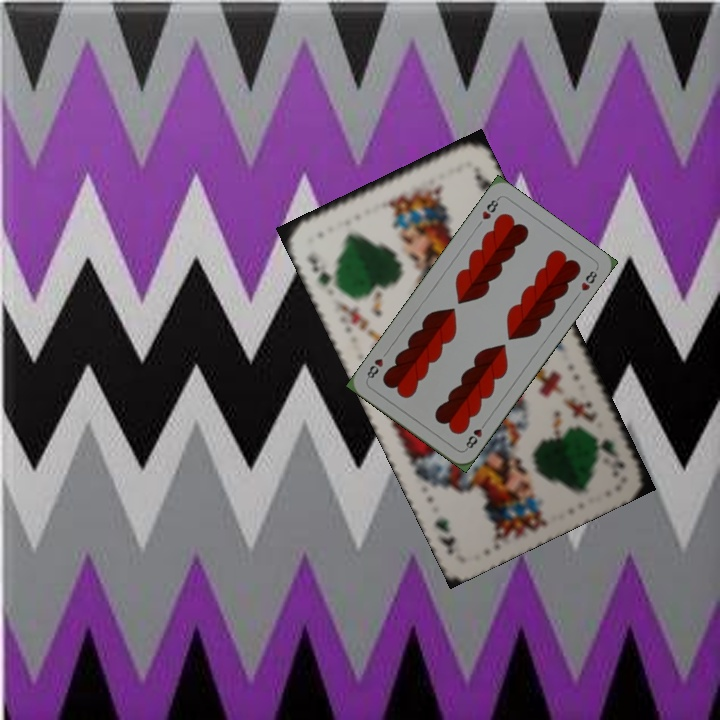GK: (589, 428, 628, 479), (303, 252, 342, 292)
H8: (461, 417, 489, 453), (478, 194, 502, 222)
